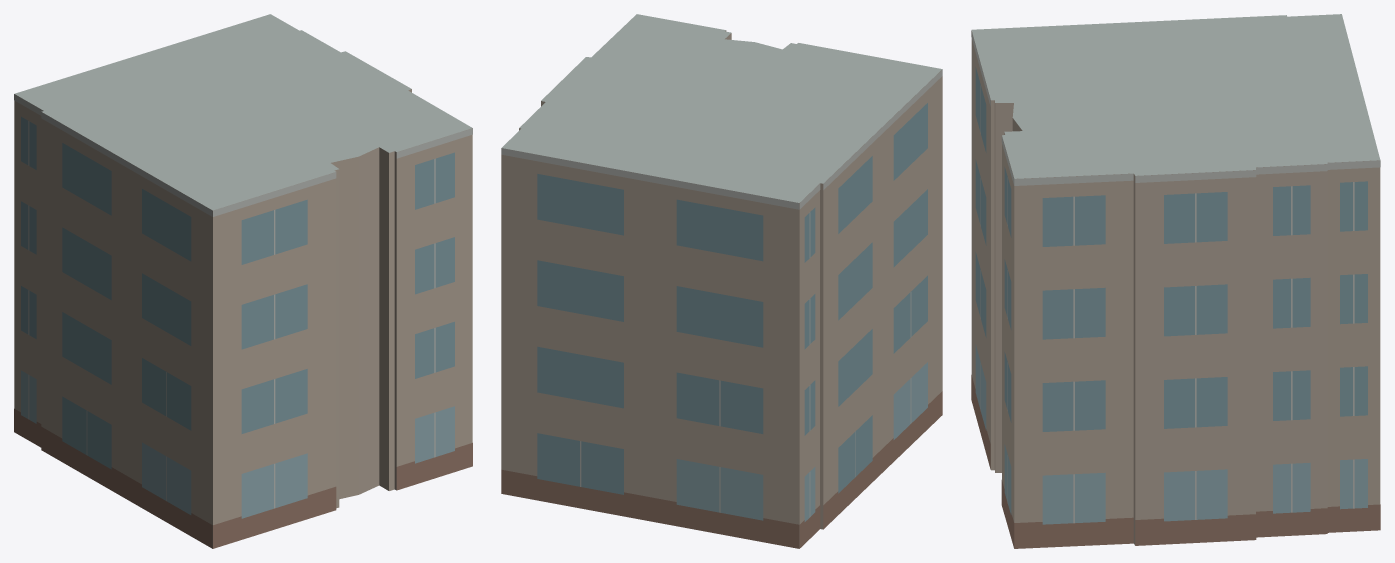
The model's file is survey-upis-32929062.glb.
3 views of the same model, side by side, from view 1: azimuth 30°, elevation 25°; view 2: azimuth 150°, elevation 25°; view 3: azimuth 270°, elevation 25° (orthographic). The views are drawn at different scales.
Parts seen in each view (by area): view 1: survey-upis-32929062.tmp; view 2: survey-upis-32929062.tmp; view 3: survey-upis-32929062.tmp.
Boxes of the visible parts, bbox=[...] form: survey-upis-32929062.tmp: bbox=[14, 14, 472, 548]; survey-upis-32929062.tmp: bbox=[501, 14, 942, 548]; survey-upis-32929062.tmp: bbox=[971, 14, 1380, 548].
Size of the model in its own units: 12.05 by 12.6 by 12.63.
